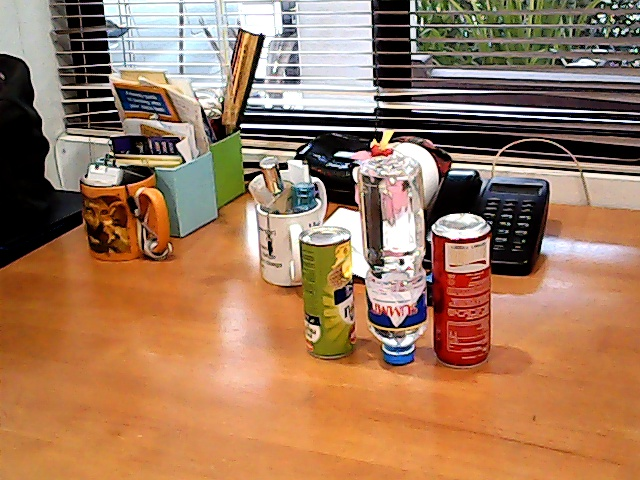Cola: (429, 194, 517, 381)
Pine Juice: (296, 214, 360, 363)
Summit Water: (360, 144, 431, 373)
